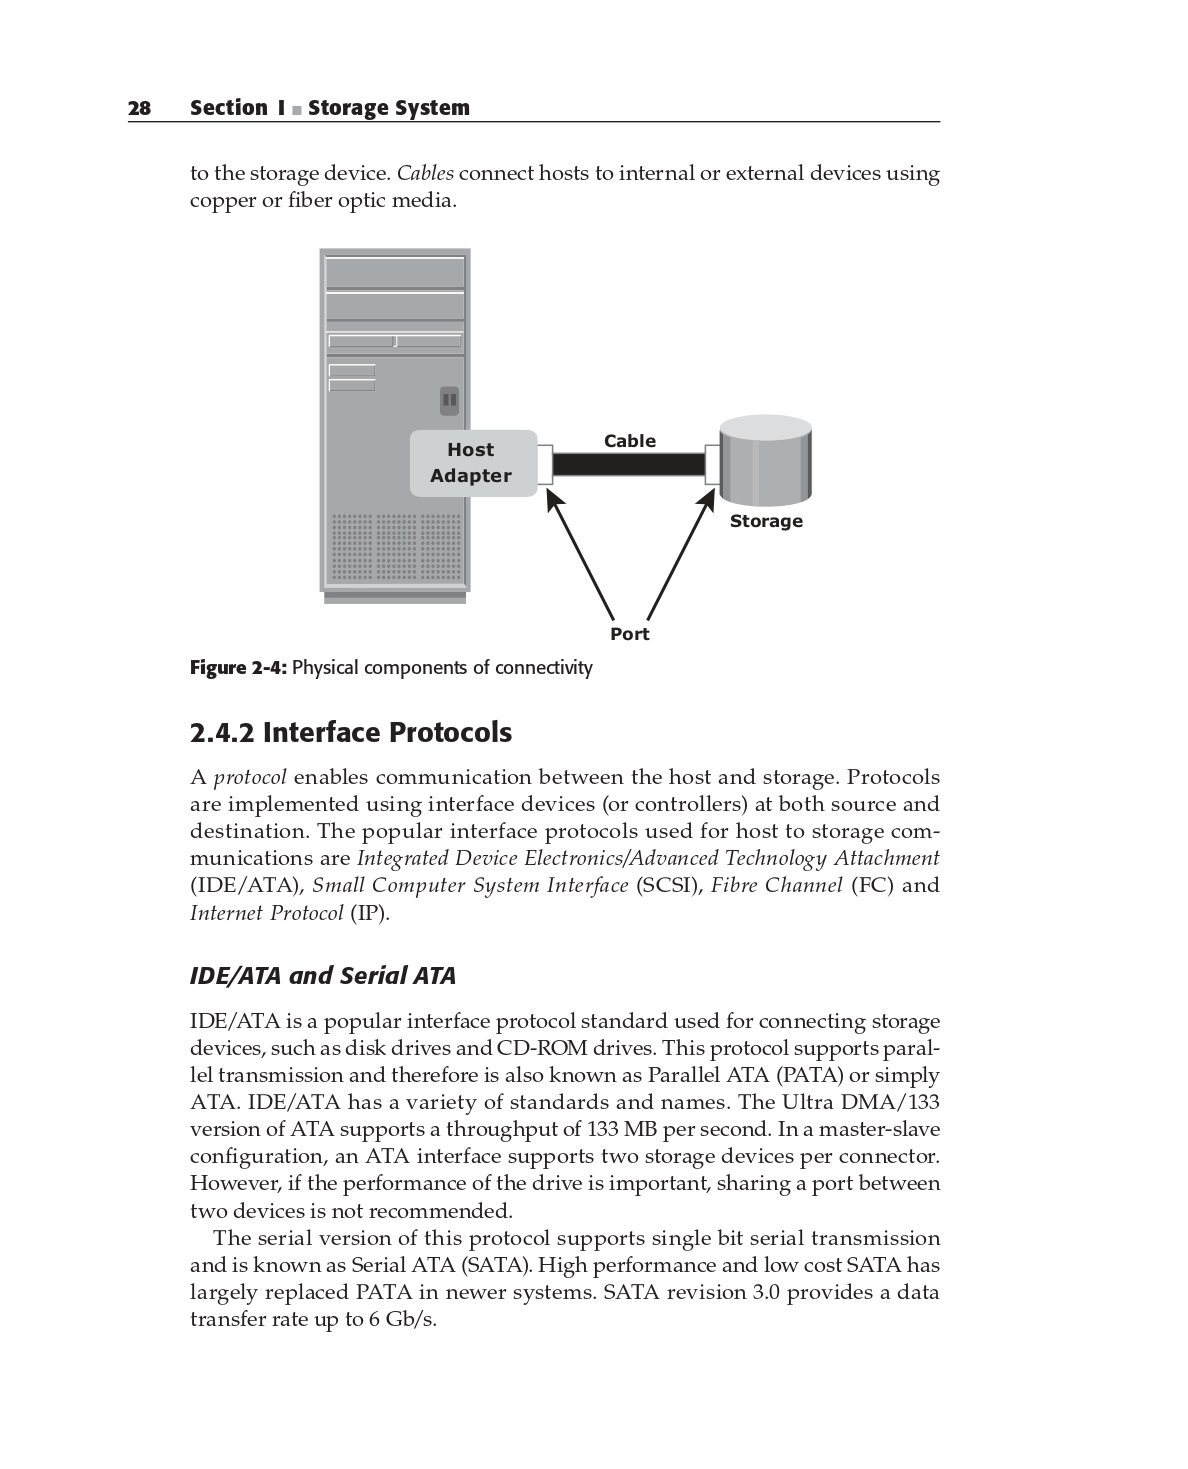Image: (301, 222, 838, 651)
Paragraph: (184, 999, 943, 1224), (178, 771, 955, 922), (184, 1221, 937, 1338), (176, 143, 952, 222), (178, 651, 607, 686), (114, 81, 485, 120), (181, 719, 522, 748), (193, 955, 464, 987)
